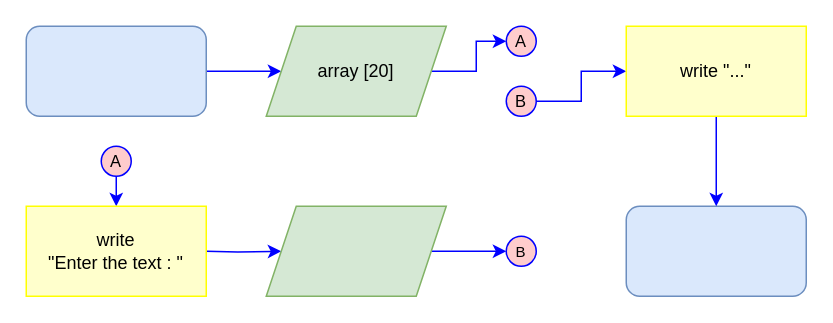
Image size: 833x323. Some labels were removed from this diagram. The centre of each missing label's shape, as x and y in pixels:
End: (715,250)
intpu "...": (355,250)
Start: (115,70)
